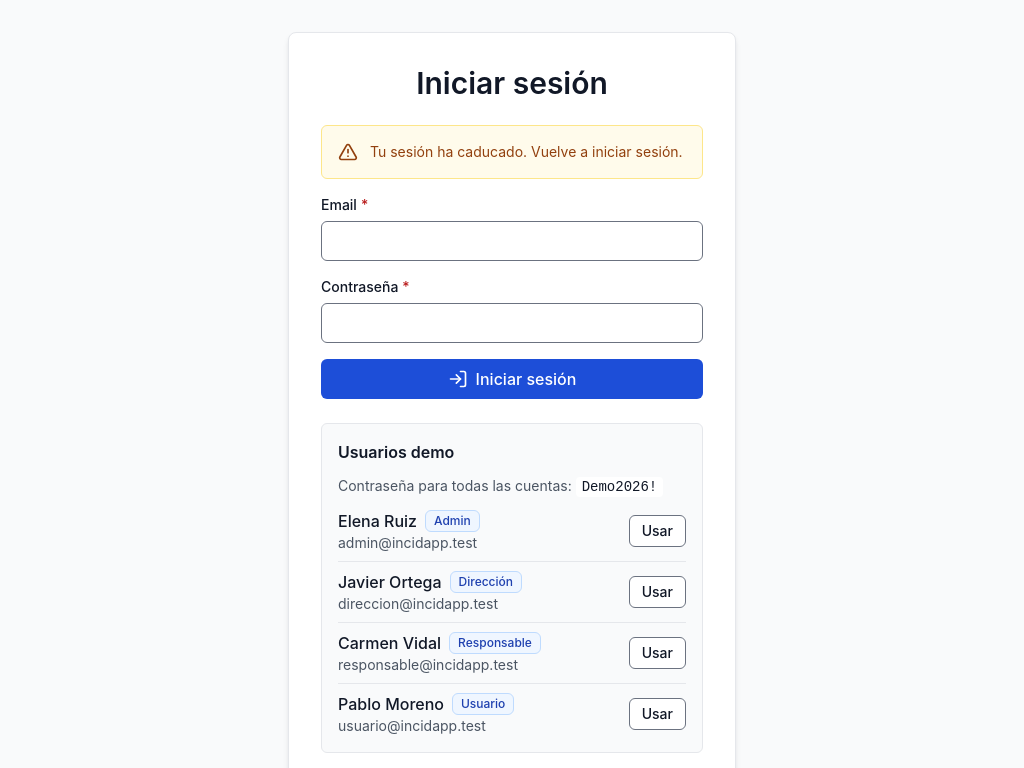
it: CA-01.16 · sesión caducada durante el uso › tras volver a iniciar sesión, regresa a la ruta en la que estaba
The image size is (1024, 768).
Expected: the text "Tu sesión ha caducado. Vuelve a iniciar sesión." is shown, [370,142,683,162]
Type "admin@incidapp.test" into the field labelled "Email*" at (512, 241), box [321,221,703,261]
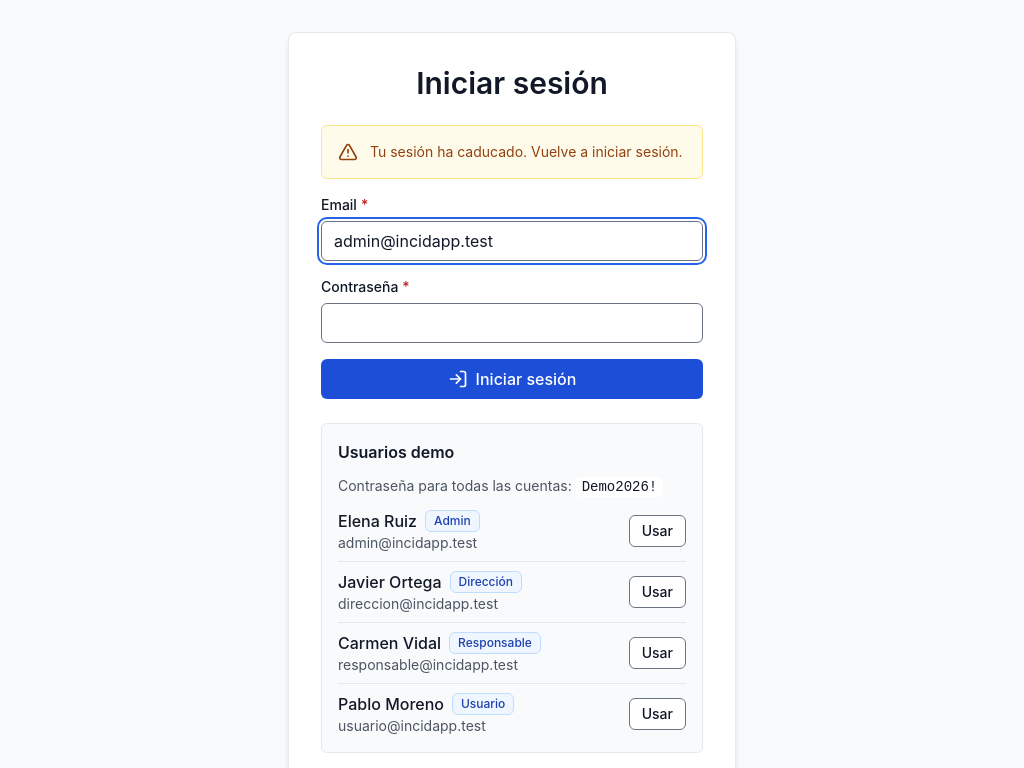
Type "Demo2026!" into the password field labelled "Contraseña*" at (512, 323), box [321,303,703,343]
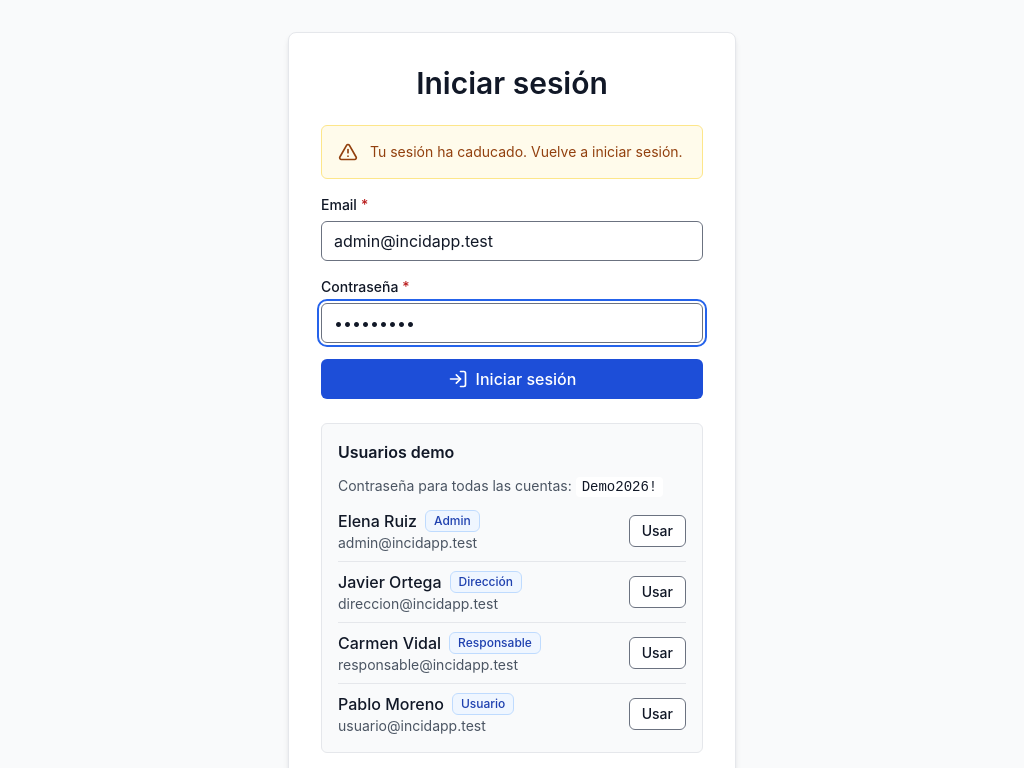
Click the button "Iniciar sesión" at (512, 379), box [321,359,703,399]
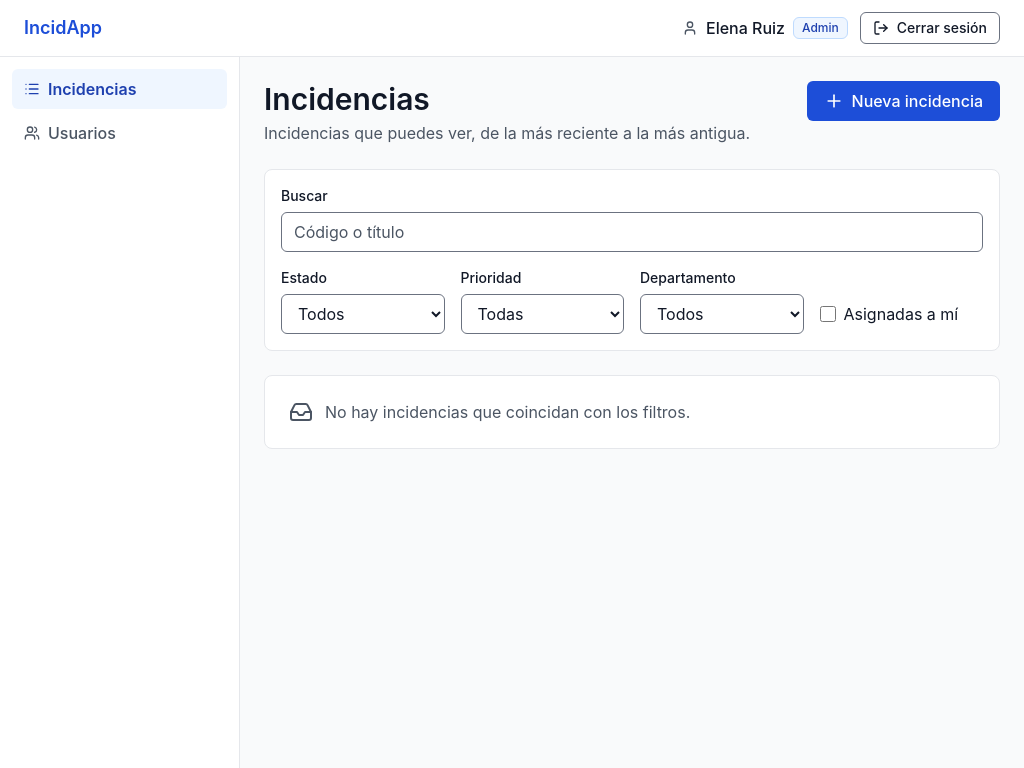
Now the text "No hay incidencias que coincidan con los filtros." is shown, box [325,400,690,424]
